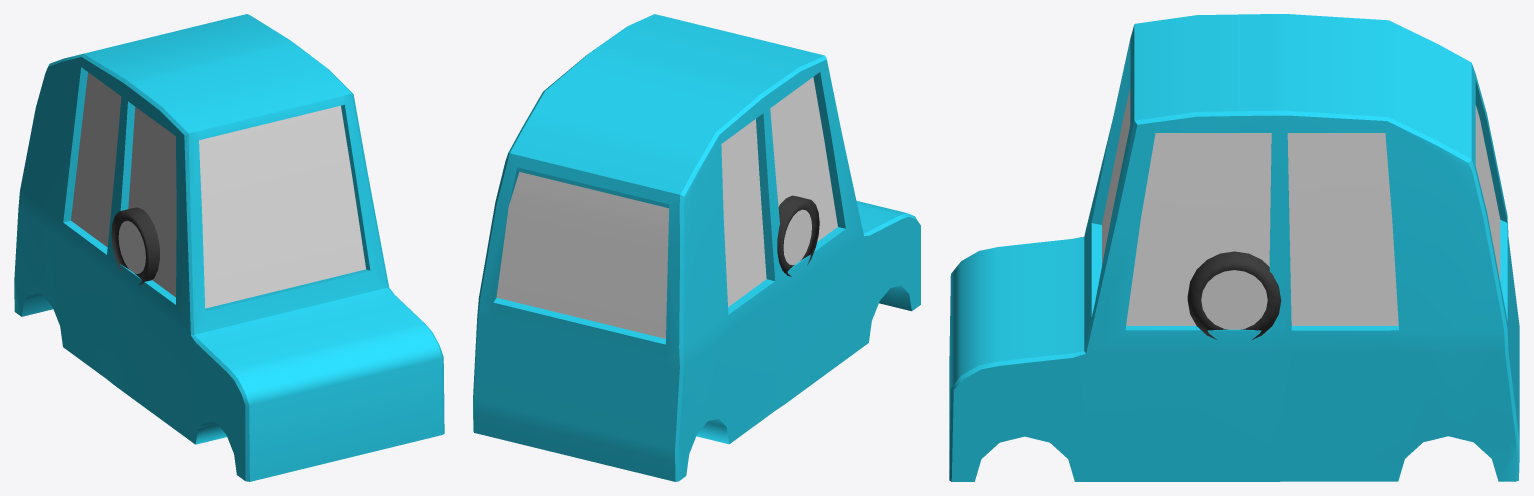
The model's file is car 4.fbx.
3 renders of one model, left to right at view 1: azimuth 30°, elevation 25°; view 2: azimuth 150°, elevation 25°; view 3: azimuth 270°, elevation 25°, orthographic. The views are drawn at different scales.
Visible parts, largest first — view 1: car_4_chasis, car_4_back_wheel, car_4_right_wheel; view 2: car_4_chasis, car_4_back_wheel; view 3: car_4_chasis, car_4_left_wheel.
Part boxes in pixels (left/top/right/bottom): car_4_chasis: left=14, top=14, right=444, bottom=481; car_4_back_wheel: left=111, top=207, right=158, bottom=284; car_4_right_wheel: left=126, top=208, right=159, bottom=283; car_4_chasis: left=473, top=14, right=920, bottom=481; car_4_back_wheel: left=777, top=196, right=819, bottom=276; car_4_chasis: left=949, top=14, right=1519, bottom=481; car_4_left_wheel: left=1187, top=251, right=1280, bottom=339.
Bounding box in the file's own units: 81.53 × 117 × 167.
